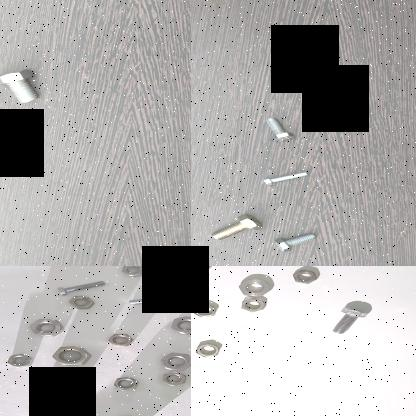Bolts: (206, 211, 264, 241), (0, 68, 49, 102), (256, 167, 313, 190), (328, 306, 369, 336), (268, 230, 318, 254), (52, 278, 106, 298), (260, 116, 294, 144), (126, 294, 182, 308)
NUTS: (49, 344, 92, 368), (236, 276, 274, 300), (26, 318, 70, 336), (25, 399, 63, 416), (158, 352, 191, 371), (165, 313, 191, 335), (108, 376, 140, 392), (238, 298, 270, 314), (167, 272, 191, 292), (6, 353, 34, 370), (191, 343, 221, 358), (290, 268, 318, 284), (104, 333, 135, 347), (159, 372, 190, 386), (65, 297, 98, 310), (191, 304, 218, 318), (119, 266, 150, 278), (191, 266, 209, 275)
